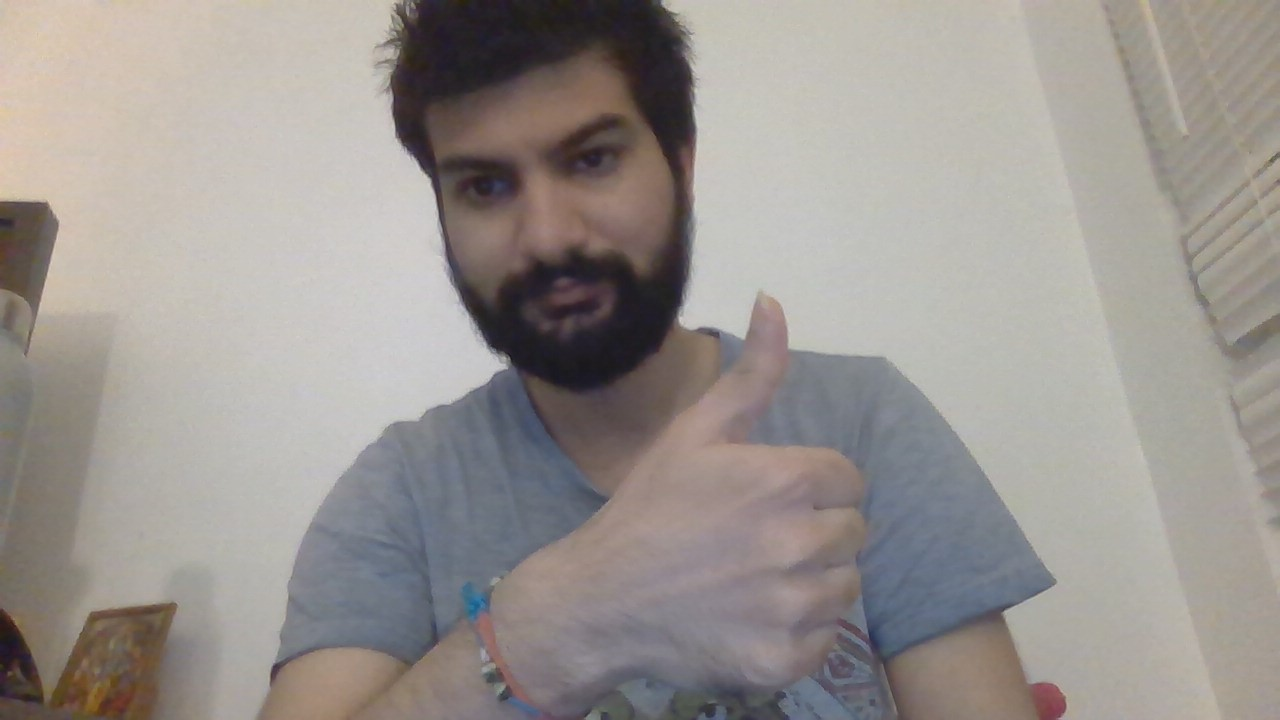up: (662, 290, 886, 693)
